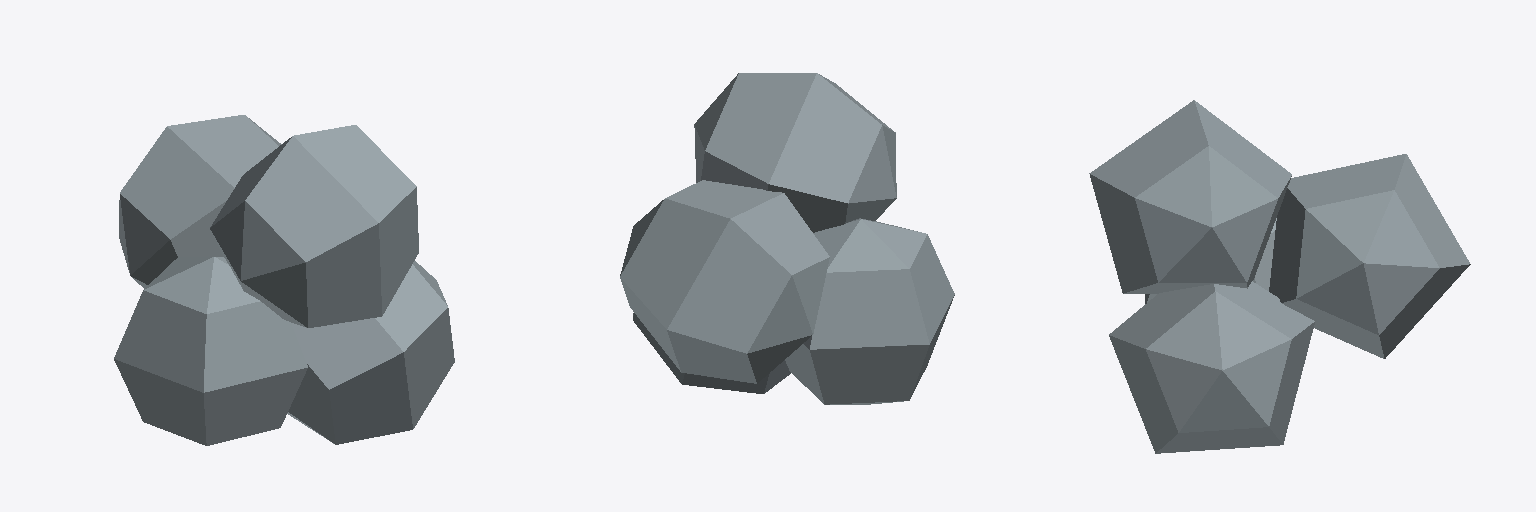
The model's file is less_bolas.obj.
3 views of the same model, side by side, from view 1: azimuth 30°, elevation 25°; view 2: azimuth 150°, elevation 25°; view 3: azimuth 270°, elevation 25° (orthographic).
Visible parts, largest first — view 1: less_bolas; view 2: less_bolas; view 3: less_bolas.
Boxes of the visible parts, x1,y1,x2,y2 form: less_bolas: [114, 115, 454, 445]; less_bolas: [620, 73, 954, 404]; less_bolas: [1089, 100, 1470, 453].
Size of the model in its own units: 3.41 by 3.29 by 3.71.